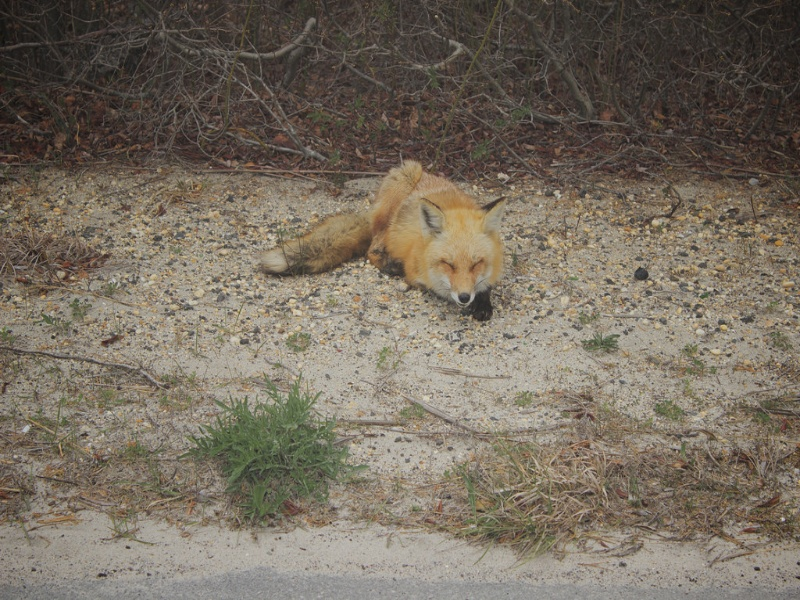fox: (260, 153, 511, 323)
